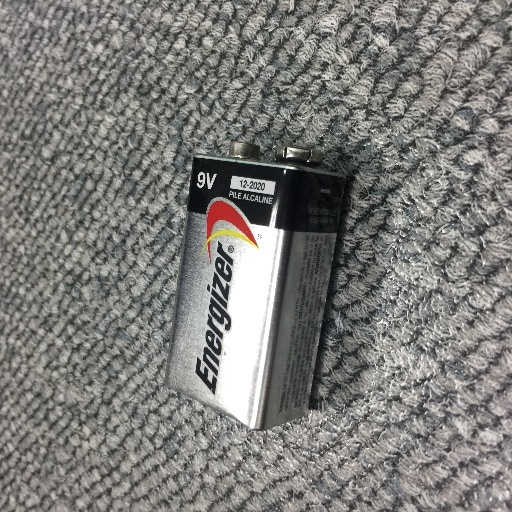Battery_3: (148, 123, 369, 455)
